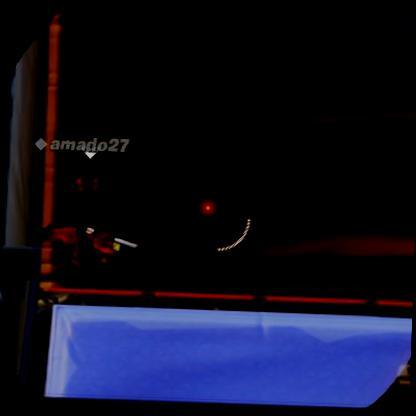person: (38, 172, 124, 290)
